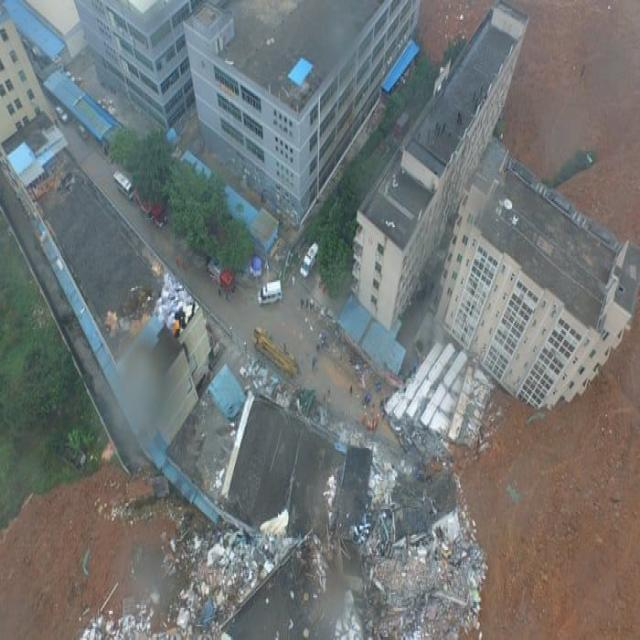collapsed_building: (171, 314, 445, 638)
